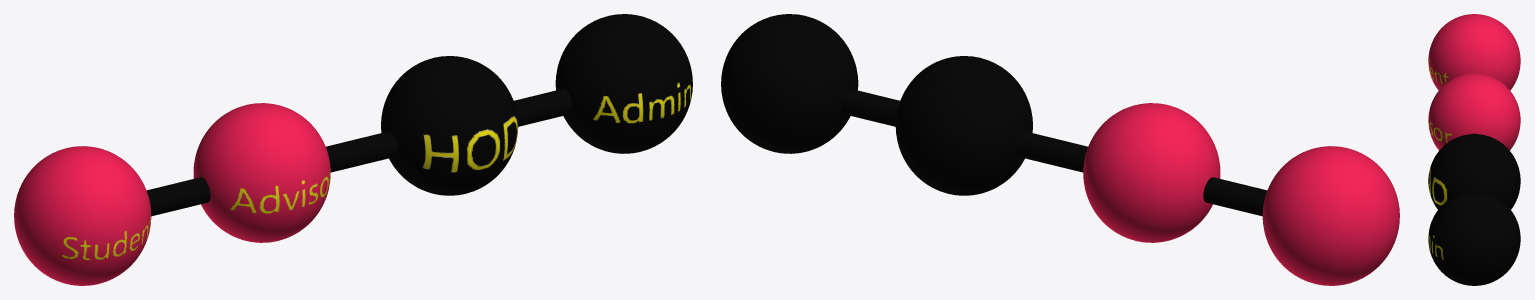
Rendered from stepprogressadv.glb.
3 views of the same model, side by side, from view 1: azimuth 30°, elevation 25°; view 2: azimuth 150°, elevation 25°; view 3: azimuth 270°, elevation 25° (orthographic). The views are drawn at different scales.
Parts seen in each view (by area): view 1: mesh_id45, mesh_id27, mesh_id47, mesh_id46, mesh_id49; view 2: mesh_id45, mesh_id27, mesh_id47, mesh_id46, mesh_id49; view 3: mesh_id47, mesh_id27, mesh_id45, mesh_id46.
Part boxes in pixels (x1,y1,x2,y2): mesh_id45: (14,146,151,285); mesh_id27: (193,103,330,242); mesh_id47: (555,14,692,153); mesh_id46: (381,56,518,195); mesh_id49: (146,89,572,216); mesh_id45: (1262,146,1399,285); mesh_id27: (1083,103,1220,242); mesh_id47: (721,14,858,153); mesh_id46: (895,56,1032,195); mesh_id49: (841,89,1267,216); mesh_id47: (1428,192,1520,285); mesh_id27: (1428,73,1520,150); mesh_id45: (1428,14,1520,90); mesh_id46: (1428,134,1520,209).
Bounding box in the file's own units: 0.9501 × 0.1769 × 0.1711.
5 materials, 5 textured.
